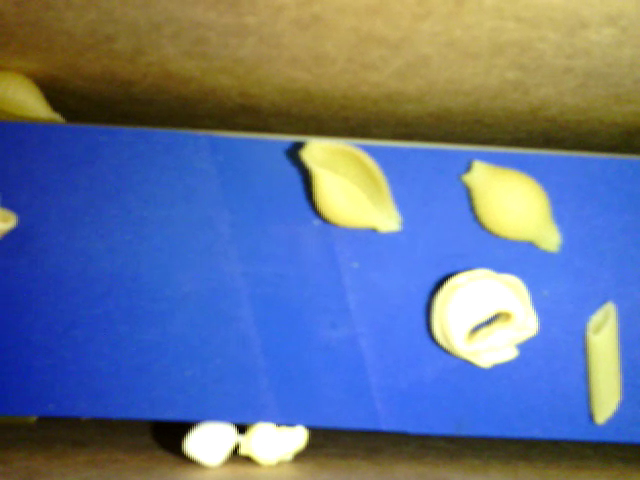penne: (585, 298, 624, 428)
shell: (457, 155, 564, 253), (298, 139, 403, 234), (1, 69, 67, 127)
tortellini: (423, 264, 544, 371)
